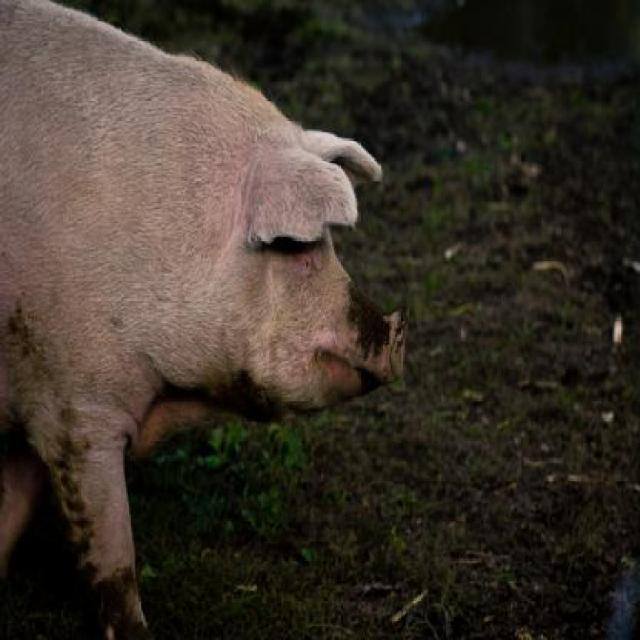pig: (0, 0, 408, 639)
